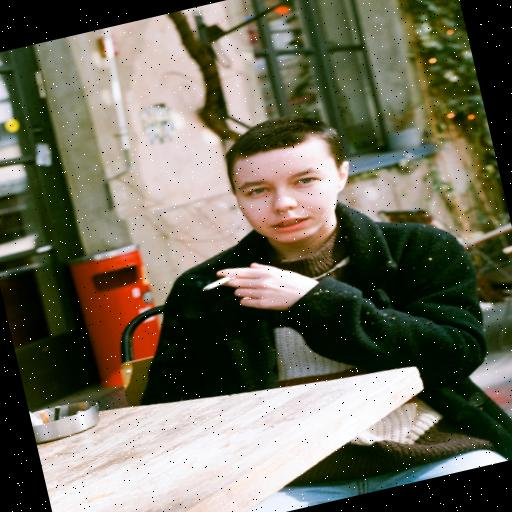terdeteksi pegang rokok: (176, 212, 310, 343)
